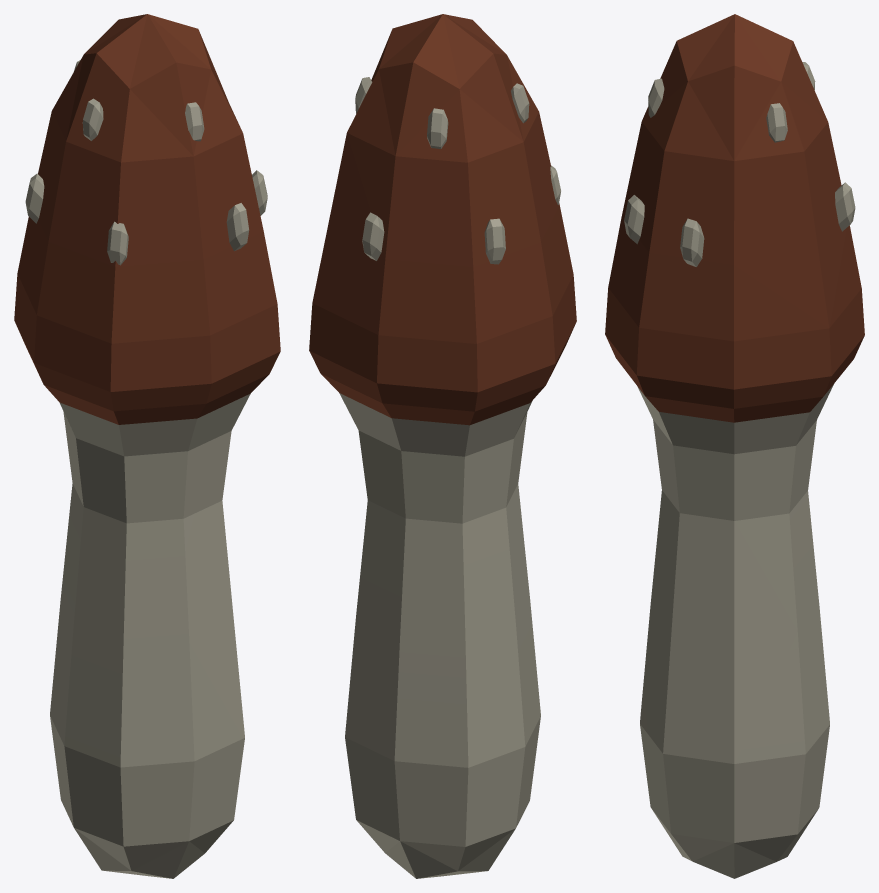
Rendered from plant_mushroom_giant_4.glb.
3 renders of one model, left to right at view 1: azimuth 30°, elevation 25°; view 2: azimuth 150°, elevation 25°; view 3: azimuth 270°, elevation 25°, orthographic.
Parts seen in each view (by area): view 1: plant_mushroom_giant_4; view 2: plant_mushroom_giant_4; view 3: plant_mushroom_giant_4.
Part boxes in pixels (x1,y1,x2,y2): plant_mushroom_giant_4: (14,14,280,878); plant_mushroom_giant_4: (309,14,576,878); plant_mushroom_giant_4: (605,14,864,878).
Bounding box in the file's own units: 3.29 × 12 × 3.29.
